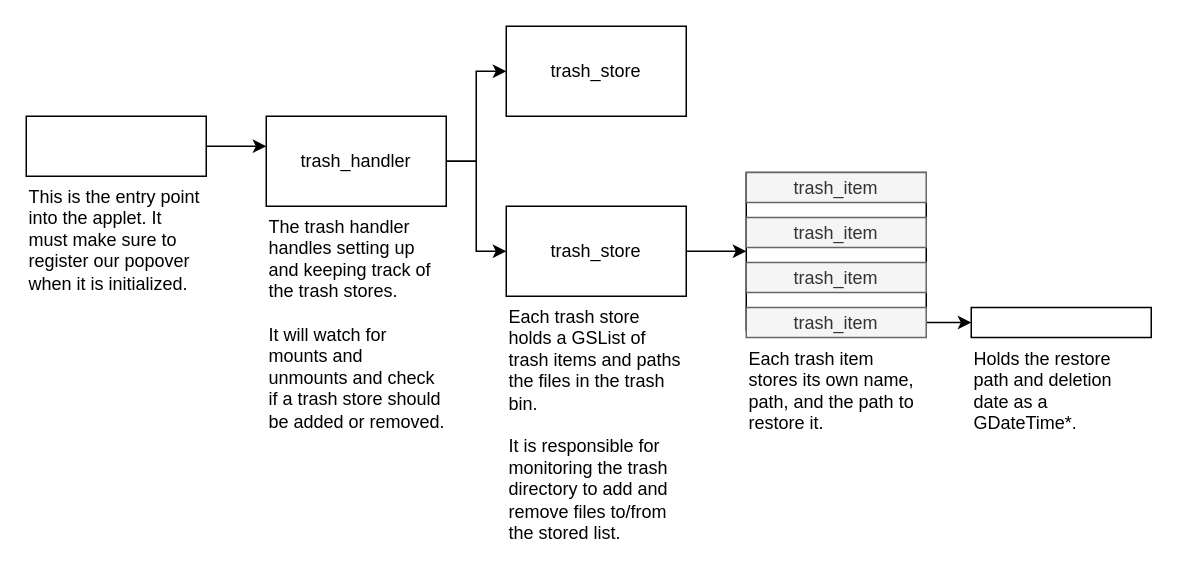
Image size: 1178x578. Some labels were removed from this diagram. Each missing label, with the box of its shape:
applet.c: (25, 115, 206, 176)
trash_info: (970, 306, 1151, 338)
